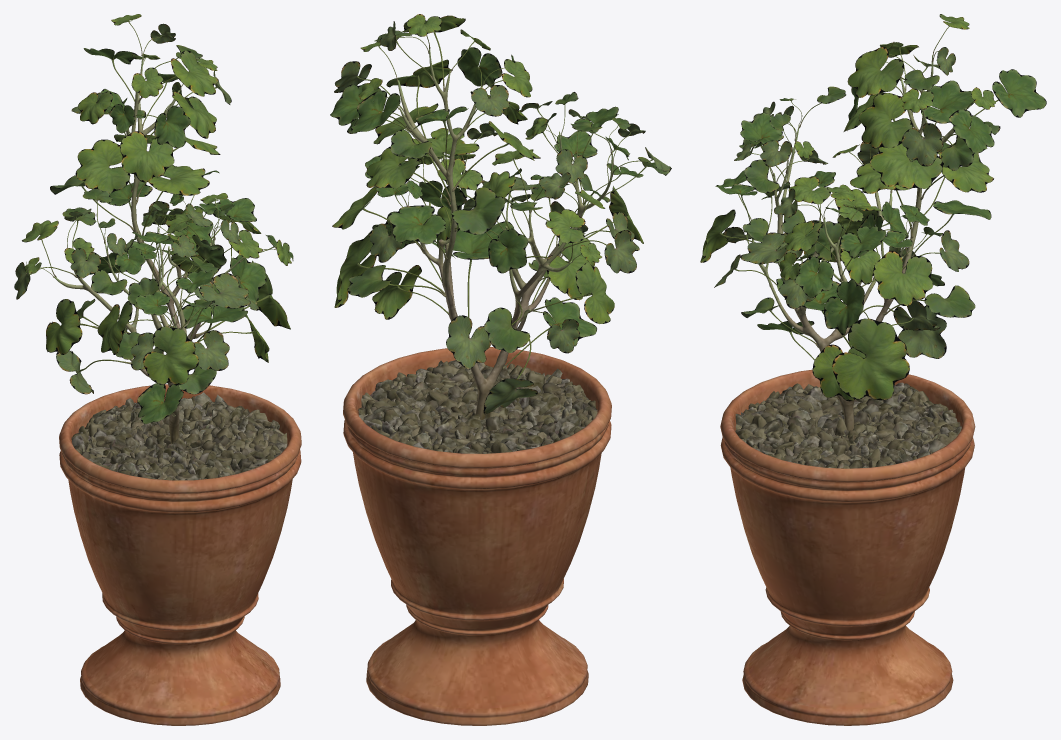
Rendered from plant_big.glb.
3 renders of one model, left to right at view 1: azimuth 30°, elevation 25°; view 2: azimuth 150°, elevation 25°; view 3: azimuth 270°, elevation 25°, orthographic. The views are drawn at different scales.
Visible parts, largest first — view 1: plant_big_2, plant_big_0, plant_big_1, plant_big_3; view 2: plant_big_2, plant_big_0, plant_big_1, plant_big_3; view 3: plant_big_2, plant_big_0, plant_big_1, plant_big_3.
Part boxes in pixels (x1,y1,x2,y2): plant_big_2: (59,384,301,725); plant_big_0: (14,14,293,423); plant_big_1: (71,392,287,480); plant_big_3: (53,54,244,443); plant_big_2: (343,347,611,725); plant_big_0: (330,14,671,414); plant_big_1: (358,360,597,453); plant_big_3: (397,49,612,420); plant_big_2: (720,369,975,725); plant_big_0: (700,14,1046,401); plant_big_1: (735,382,961,468); plant_big_3: (751,55,966,431).
Size of the model in its own units: 0.5874 by 1.34 by 0.6336.
Materials: 2 (2 with a texture image).
